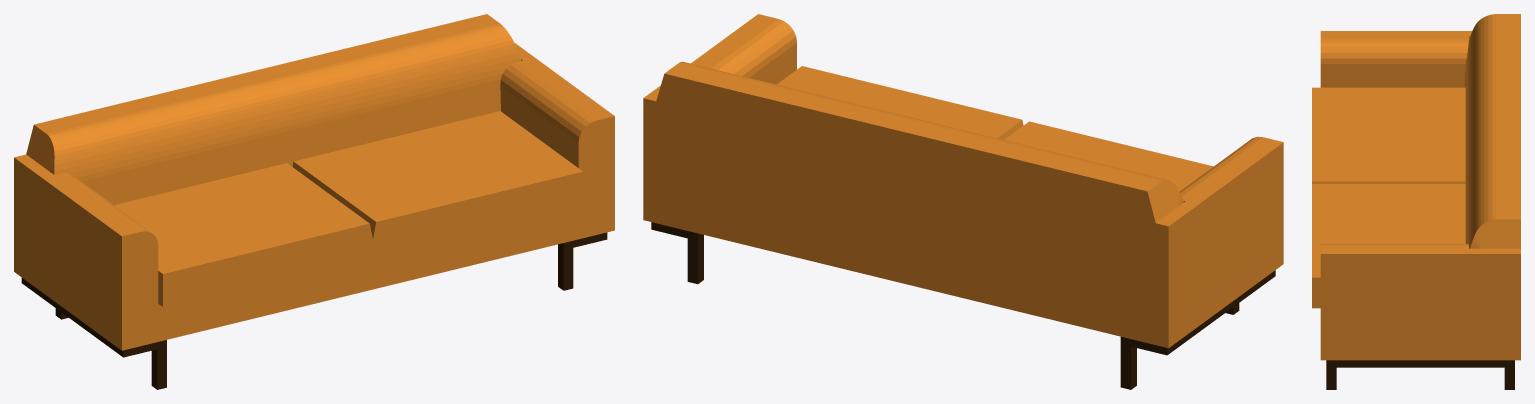
Rendered from bigCoutch.fbx.
The picture shows the model from 3 angles, left to right: view 1: azimuth 30°, elevation 25°; view 2: azimuth 150°, elevation 25°; view 3: azimuth 270°, elevation 25°; orthographic projection. The views are drawn at different scales.
Visible parts, largest first — view 1: grosSofa; view 2: grosSofa; view 3: grosSofa.
Part boxes in pixels (x1,y1,x2,y2): grosSofa: (14, 14, 614, 389); grosSofa: (643, 14, 1283, 389); grosSofa: (1312, 14, 1520, 389).
Size of the model in its own units: 203 by 76 by 80.25.
